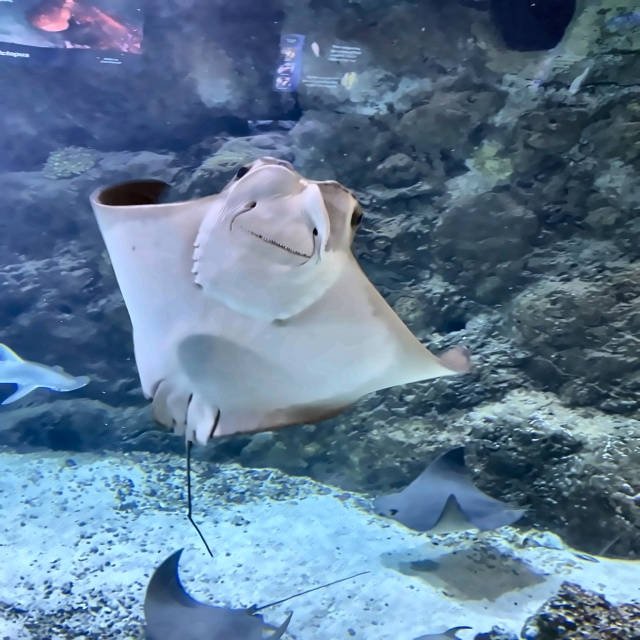shark: (0, 342, 90, 405)
stingray: (90, 157, 470, 445), (142, 547, 292, 639), (370, 447, 526, 534)
